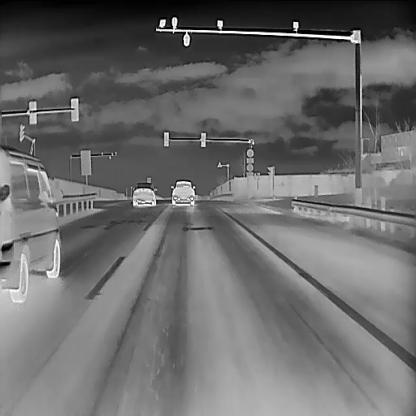car: (0, 141, 62, 302), (170, 178, 195, 206), (131, 180, 157, 206)
